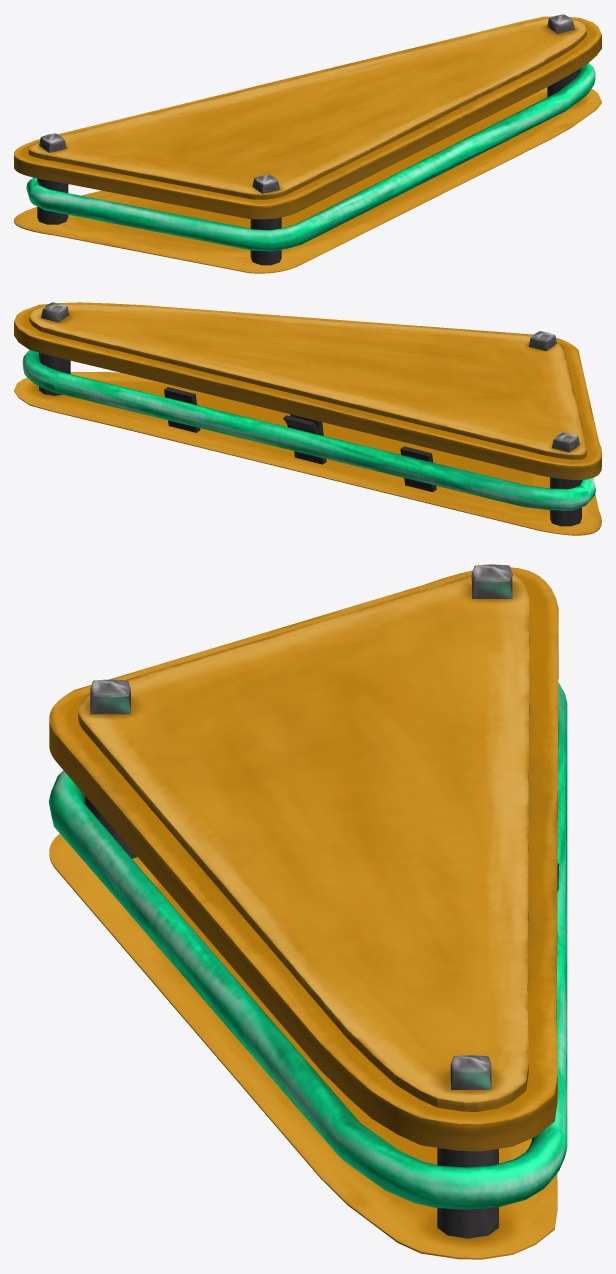
Rendered from Sling_Shot_Right.fbx.
3 views of the same model, one above another, from view 1: azimuth 30°, elevation 25°; view 2: azimuth 150°, elevation 25°; view 3: azimuth 270°, elevation 25° (orthographic). The views are drawn at different scales.
Visible parts, largest first — view 1: Line001; view 2: Line001; view 3: Line001.
Part boxes in pixels (x1,y1,x2,y2): Line001: (14, 14, 601, 273); Line001: (14, 302, 601, 535); Line001: (48, 564, 567, 1259).
Size of the model in its own units: 23.77 by 3.34 by 9.35.
1 material, 1 textured.
